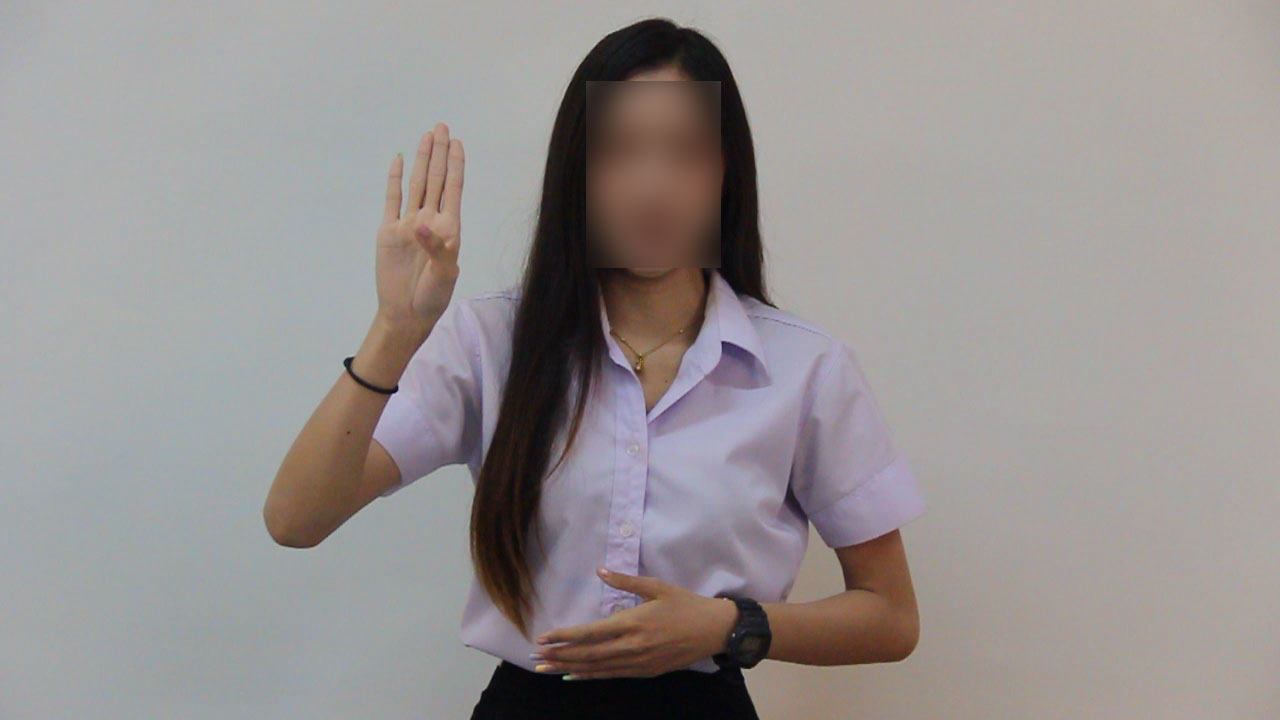bor: (350, 102, 484, 355)
